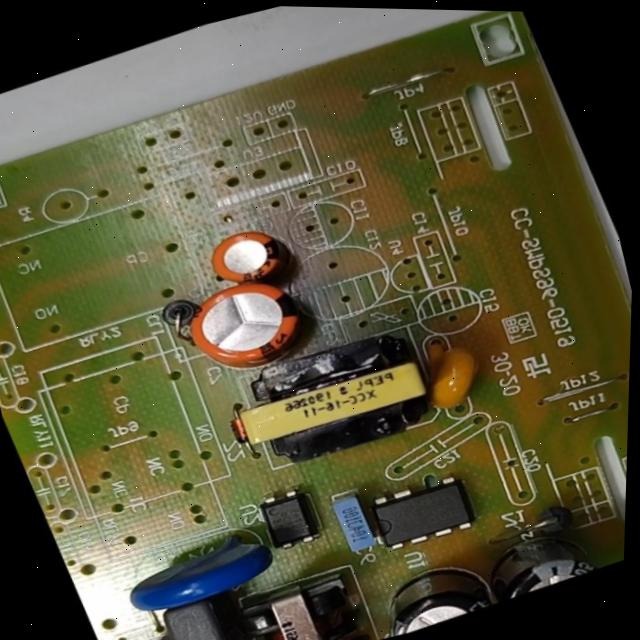Cap1: (158, 251, 345, 405)
Cap2: (189, 209, 307, 310)
Cap3: (360, 538, 514, 640)
Cap4: (463, 512, 610, 610)
MOSFET: (348, 452, 491, 568)
Mov: (101, 511, 295, 632)
Resistor: (102, 622, 203, 640)
Transformer: (207, 301, 475, 499), (210, 551, 390, 640)
